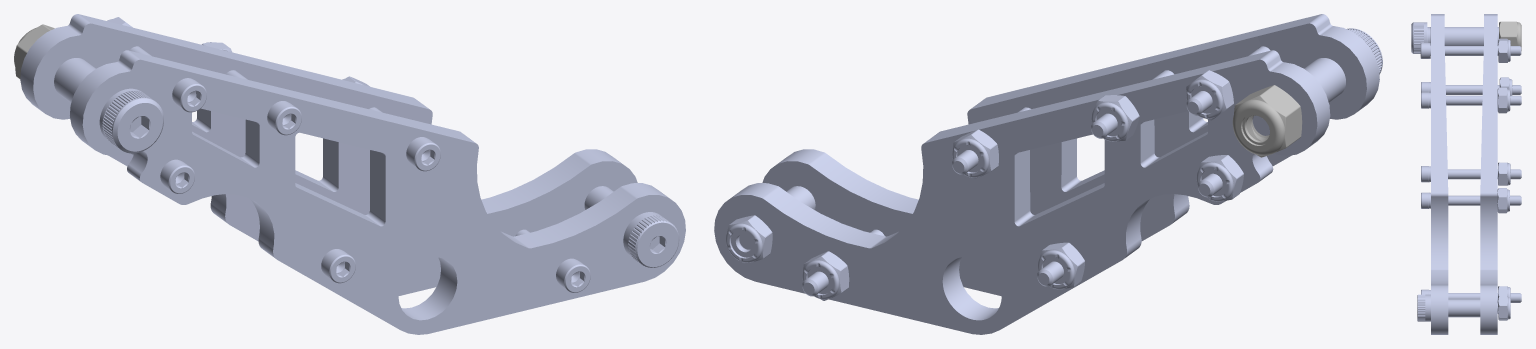
The model's file is final_upright_assembled.glb.
3 renders of one model, left to right at view 1: azimuth 30°, elevation 25°; view 2: azimuth 150°, elevation 25°; view 3: azimuth 270°, elevation 25°, orthographic. The views are drawn at different scales.
Parts seen in each view (by area): view 1: final_rocker_unassembled-1, 94361A126_Short-Thread Alloy Steel Shoulder Screw-1, 94361A316_Short-Thread Alloy Steel Shoulder Screw-1, 91864A360_Black-Oxide Alloy Steel Socket Head Screw-6, 91864A360_Black-Oxide Alloy Steel Socket Head Screw-4, 91864A360_Black-Oxide Alloy Steel Socket Head Screw-1, 91864A360_Black-Oxide Alloy Steel Socket Head Screw-3, 91864A360_Black-Oxide Alloy Steel Socket Head Screw-5, 91864A360_Black-Oxide Alloy Steel Socket Head Screw-2, 97135A414_High-Strength Steel Nylon-Insert Locknut-1; view 2: final_rocker_unassembled-1, 97135A414_High-Strength Steel Nylon-Insert Locknut-1, 94361A126_Short-Thread Alloy Steel Shoulder Screw-1, 91831A007_18-8 Stainless Steel Nylon-Insert Locknut-6, 91831A007_18-8 Stainless Steel Nylon-Insert Locknut-7, 91831A007_18-8 Stainless Steel Nylon-Insert Locknut-2, 91831A007_18-8 Stainless Steel Nylon-Insert Locknut-4, 91831A007_18-8 Stainless Steel Nylon-Insert Locknut-5, 91831A007_18-8 Stainless Steel Nylon-Insert Locknut-1, 91831A007_18-8 Stainless Steel Nylon-Insert Locknut-3, 91864A360_Black-Oxide Alloy Steel Socket Head Screw-4, 91864A360_Black-Oxide Alloy Steel Socket Head Screw-6 (+4 smaller); view 3: final_rocker_unassembled-1, 94361A126_Short-Thread Alloy Steel Shoulder Screw-1, 94361A316_Short-Thread Alloy Steel Shoulder Screw-1, 91864A360_Black-Oxide Alloy Steel Socket Head Screw-6, 91864A360_Black-Oxide Alloy Steel Socket Head Screw-4, 91864A360_Black-Oxide Alloy Steel Socket Head Screw-3, 91864A360_Black-Oxide Alloy Steel Socket Head Screw-2, 91864A360_Black-Oxide Alloy Steel Socket Head Screw-5, 97135A414_High-Strength Steel Nylon-Insert Locknut-1, 91864A360_Black-Oxide Alloy Steel Socket Head Screw-1, 91831A007_18-8 Stainless Steel Nylon-Insert Locknut-2, 91831A007_18-8 Stainless Steel Nylon-Insert Locknut-4 (+5 smaller).
Part boxes in pixels (bbox=[...]): final_rocker_unassembled-1: bbox=[20, 14, 685, 334]; 94361A126_Short-Thread Alloy Steel Shoulder Screw-1: bbox=[54, 58, 163, 153]; 94361A316_Short-Thread Alloy Steel Shoulder Screw-1: bbox=[584, 186, 679, 267]; 91864A360_Black-Oxide Alloy Steel Socket Head Screw-6: bbox=[129, 46, 206, 112]; 91864A360_Black-Oxide Alloy Steel Socket Head Screw-4: bbox=[226, 70, 301, 135]; 91864A360_Black-Oxide Alloy Steel Socket Head Screw-1: bbox=[515, 229, 590, 292]; 91864A360_Black-Oxide Alloy Steel Socket Head Screw-3: bbox=[369, 107, 440, 171]; 91864A360_Black-Oxide Alloy Steel Socket Head Screw-5: bbox=[130, 153, 194, 193]; 91864A360_Black-Oxide Alloy Steel Socket Head Screw-2: bbox=[321, 249, 355, 283]; 97135A414_High-Strength Steel Nylon-Insert Locknut-1: bbox=[14, 24, 54, 78]; final_rocker_unassembled-1: bbox=[714, 14, 1379, 334]; 97135A414_High-Strength Steel Nylon-Insert Locknut-1: bbox=[1232, 85, 1302, 157]; 94361A126_Short-Thread Alloy Steel Shoulder Screw-1: bbox=[1252, 28, 1382, 135]; 91831A007_18-8 Stainless Steel Nylon-Insert Locknut-6: bbox=[726, 215, 772, 263]; 91831A007_18-8 Stainless Steel Nylon-Insert Locknut-7: bbox=[1196, 155, 1243, 201]; 91831A007_18-8 Stainless Steel Nylon-Insert Locknut-2: bbox=[1091, 95, 1139, 141]; 91831A007_18-8 Stainless Steel Nylon-Insert Locknut-4: bbox=[1038, 242, 1084, 289]; 91831A007_18-8 Stainless Steel Nylon-Insert Locknut-5: bbox=[802, 251, 849, 300]; 91831A007_18-8 Stainless Steel Nylon-Insert Locknut-1: bbox=[952, 129, 998, 179]; 91831A007_18-8 Stainless Steel Nylon-Insert Locknut-3: bbox=[1186, 70, 1233, 120]; 91864A360_Black-Oxide Alloy Steel Socket Head Screw-4: bbox=[1091, 70, 1173, 138]; 91864A360_Black-Oxide Alloy Steel Socket Head Screw-6: bbox=[1186, 46, 1270, 115]; final_rocker_unassembled-1: bbox=[1431, 14, 1497, 334]; 94361A126_Short-Thread Alloy Steel Shoulder Screw-1: bbox=[1411, 22, 1498, 53]; 94361A316_Short-Thread Alloy Steel Shoulder Screw-1: bbox=[1417, 294, 1498, 321]; 91864A360_Black-Oxide Alloy Steel Socket Head Screw-6: bbox=[1420, 42, 1521, 58]; 91864A360_Black-Oxide Alloy Steel Socket Head Screw-4: bbox=[1421, 92, 1521, 108]; 91864A360_Black-Oxide Alloy Steel Socket Head Screw-3: bbox=[1421, 166, 1521, 182]; 91864A360_Black-Oxide Alloy Steel Socket Head Screw-2: bbox=[1421, 192, 1521, 208]; 91864A360_Black-Oxide Alloy Steel Socket Head Screw-5: bbox=[1421, 82, 1521, 94]; 97135A414_High-Strength Steel Nylon-Insert Locknut-1: bbox=[1499, 21, 1521, 50]; 91864A360_Black-Oxide Alloy Steel Socket Head Screw-1: bbox=[1421, 289, 1521, 302]; 91831A007_18-8 Stainless Steel Nylon-Insert Locknut-2: bbox=[1497, 87, 1510, 113]; 91831A007_18-8 Stainless Steel Nylon-Insert Locknut-4: bbox=[1497, 188, 1509, 213].
Size of the model in its own units: 0.1304 by 0.0713 by 0.0386.
